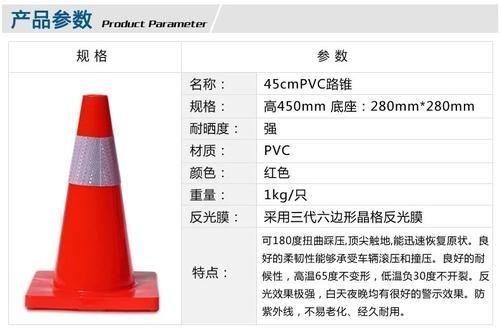cone_barrel: (46, 97, 144, 298)
